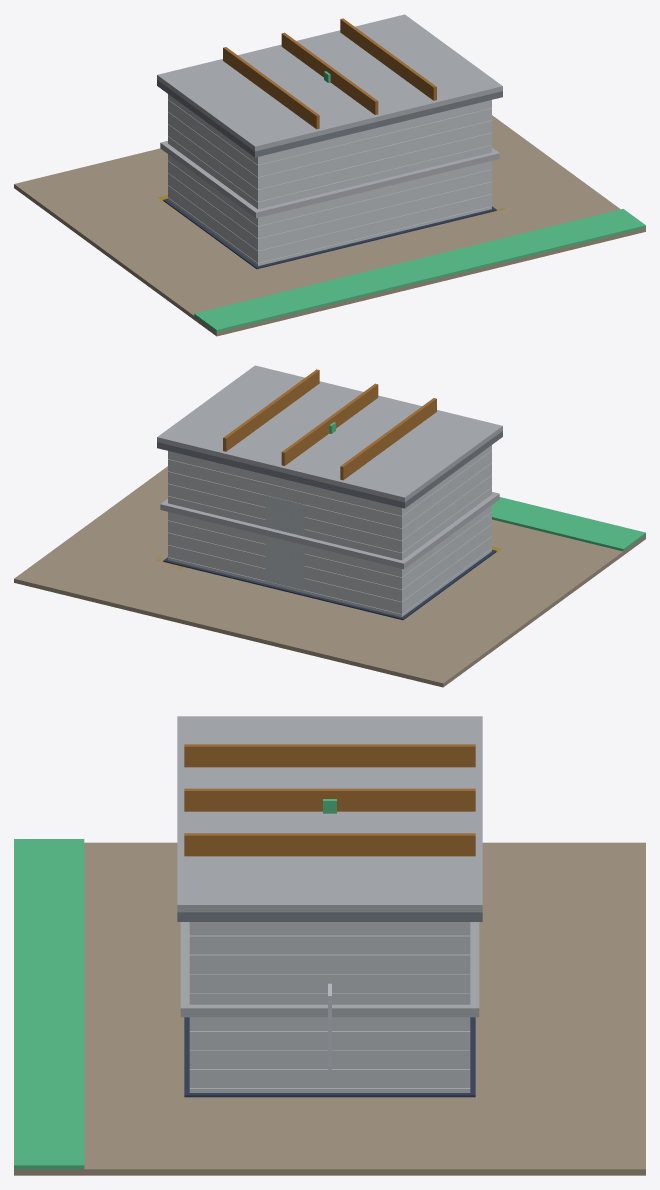
Rendered from stage_12_complete.glb.
The picture shows the model from 3 angles, top to bottom: view 1: azimuth 30°, elevation 25°; view 2: azimuth 150°, elevation 25°; view 3: azimuth 270°, elevation 25°; orthographic projection. The views are drawn at different scales.
Parts seen in each view (by area): view 1: world; view 2: world; view 3: world.
Boxes of the visible parts, x1,y1,x2,y2 form: world: (14,14,645,336); world: (14,365,645,687); world: (14,716,645,1175).
Size of the model in its own units: 11 by 4.2 by 9.
